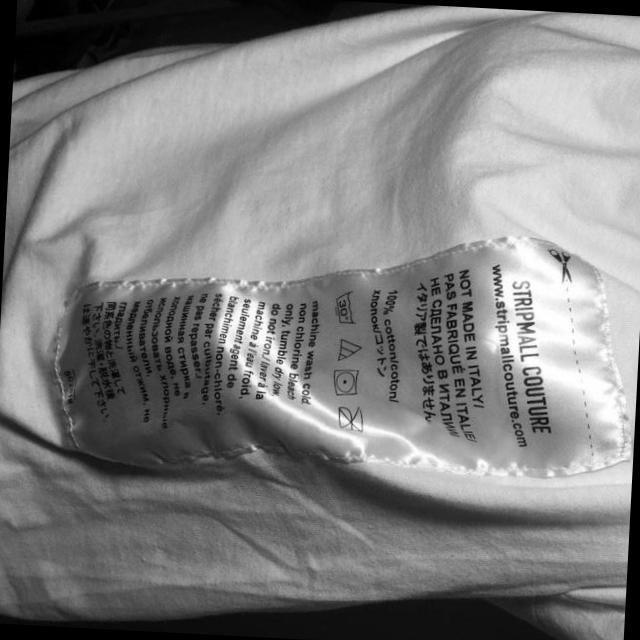30C: (328, 286, 359, 328)
DN_iron: (334, 403, 366, 434)
non_chlorine_bleach: (336, 336, 362, 363)
tumble_dry_low: (330, 366, 362, 399)
